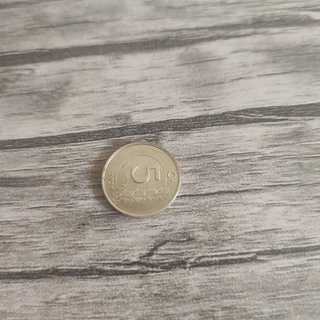5KURUS: (99, 141, 181, 217)
